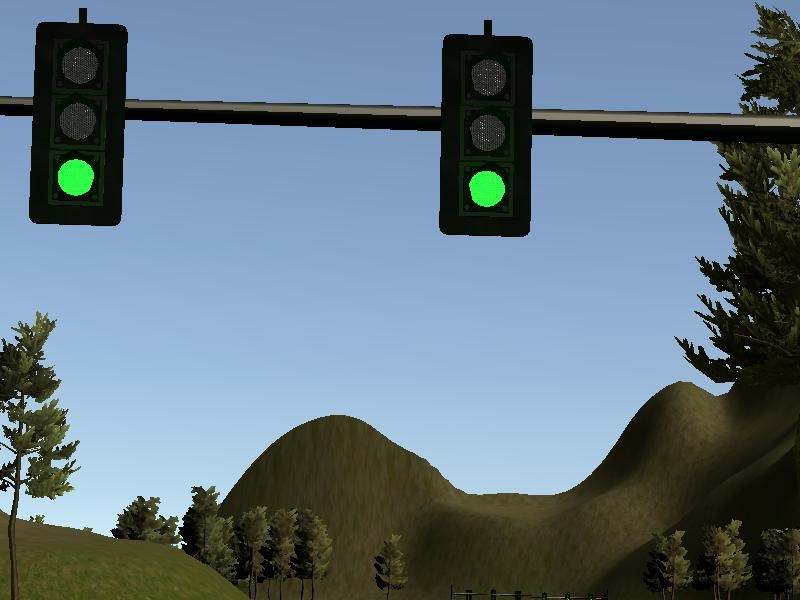GREEN: (29, 22, 127, 225), (440, 35, 532, 238)
